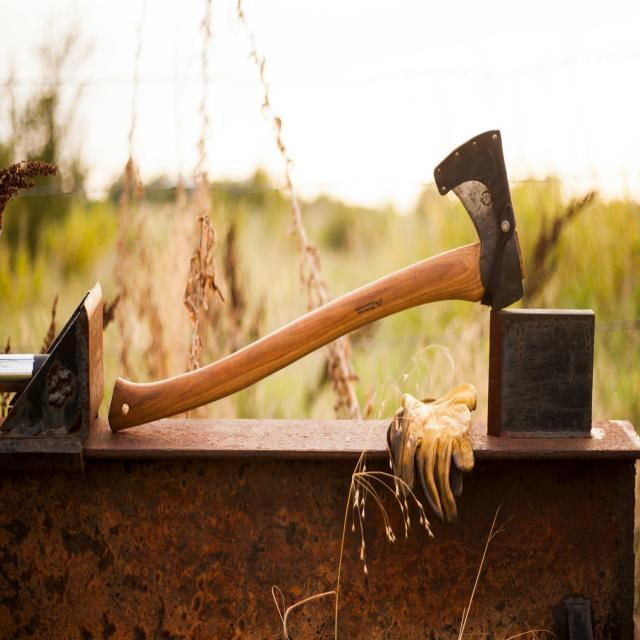Axe: (109, 131, 524, 431)
